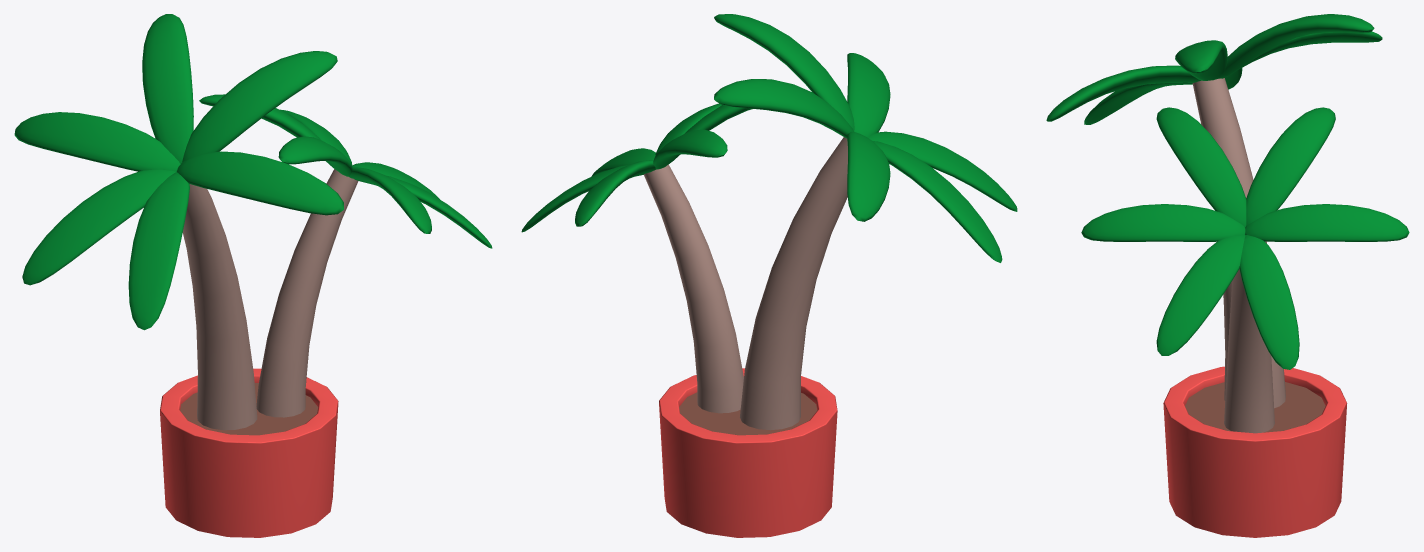
Rendered from Town_17_Tree_1.glb.
3 views of the same model, side by side, from view 1: azimuth 30°, elevation 25°; view 2: azimuth 150°, elevation 25°; view 3: azimuth 270°, elevation 25° (orthographic).
Visible parts, largest first — view 1: Town_17_Tree_1; view 2: Town_17_Tree_1; view 3: Town_17_Tree_1.
Boxes of the visible parts, x1,y1,x2,y2 form: Town_17_Tree_1: (14,14,492,537); Town_17_Tree_1: (521,14,1017,537); Town_17_Tree_1: (1046,14,1409,537).
Size of the model in its own units: 2.94 by 2.87 by 2.02.
Materials: 1 (1 with a texture image).
